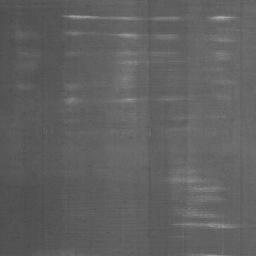Waist folding: (61, 13, 240, 66), (173, 215, 256, 230), (167, 176, 227, 193), (108, 94, 191, 104), (37, 248, 99, 256), (18, 0, 45, 9), (185, 252, 234, 256), (63, 96, 81, 106), (18, 82, 35, 91), (215, 79, 234, 86)
